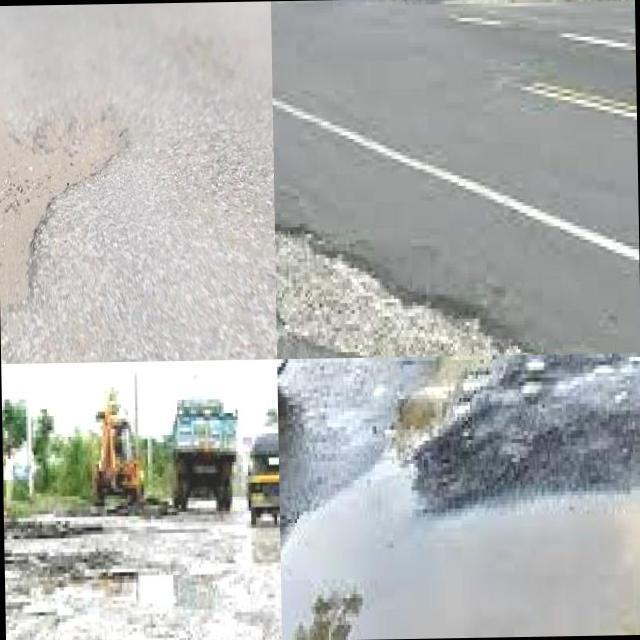Pothole: (280, 452, 640, 640), (274, 227, 534, 357), (0, 101, 122, 322)
